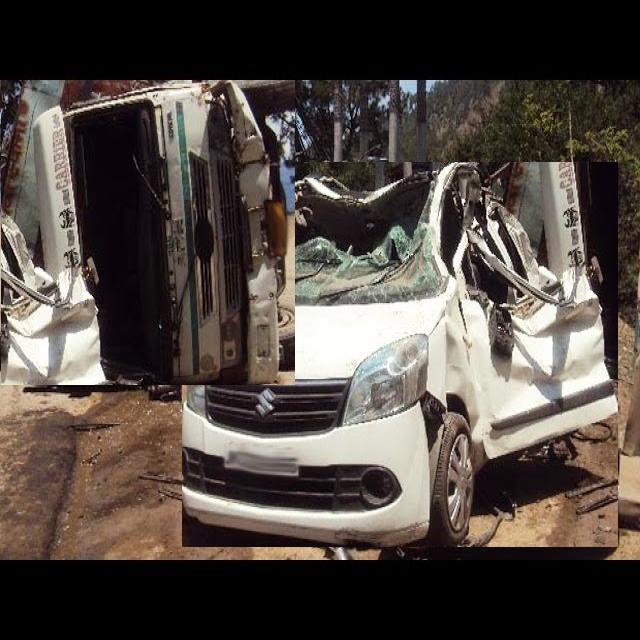accident: (182, 163, 618, 547), (1, 80, 295, 385)
